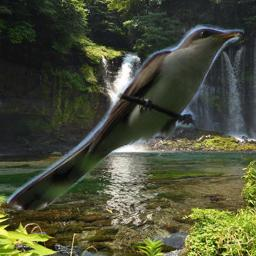Cuckoo: (7, 24, 244, 210)
